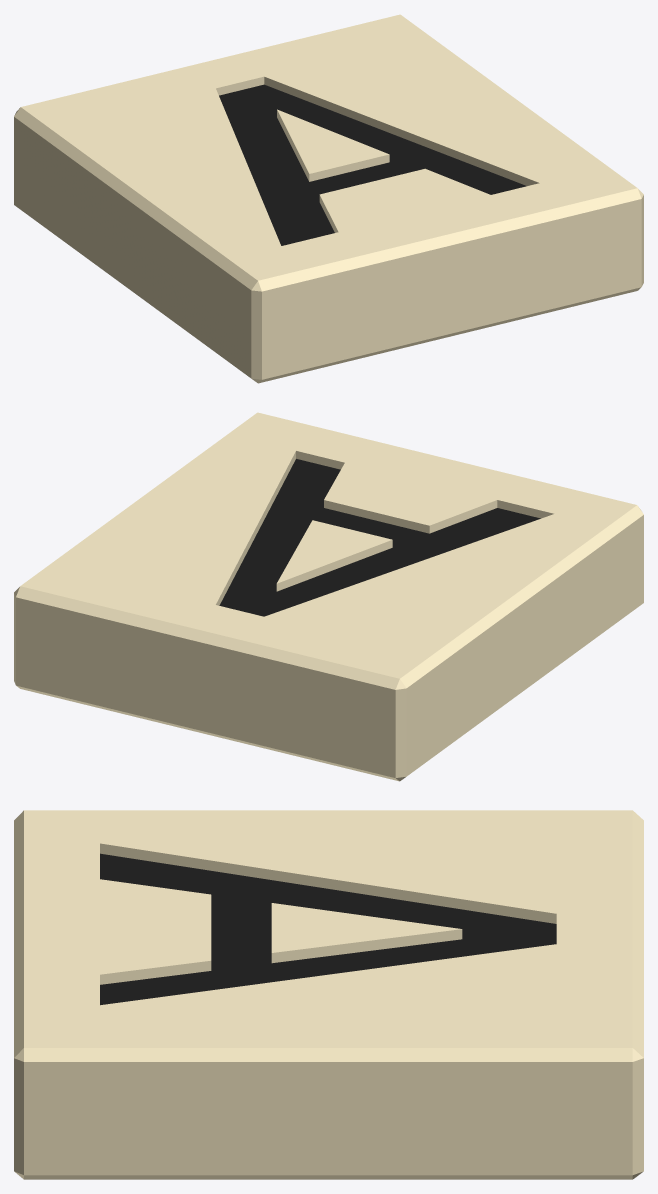
The model's file is Game_Anagram_Tile_A_01.fbx.
3 views of the same model, one above another, from view 1: azimuth 30°, elevation 25°; view 2: azimuth 150°, elevation 25°; view 3: azimuth 270°, elevation 25° (orthographic). The views are drawn at different scales.
Visible parts, largest first — view 1: Game_Anagram_Tile_A_01; view 2: Game_Anagram_Tile_A_01; view 3: Game_Anagram_Tile_A_01.
Boxes of the visible parts, x1,y1,x2,y2 form: Game_Anagram_Tile_A_01: [14, 14, 643, 383]; Game_Anagram_Tile_A_01: [14, 412, 643, 781]; Game_Anagram_Tile_A_01: [14, 810, 643, 1179].
Bounding box in the file's own units: 16.4 × 4.1 × 17.77.
